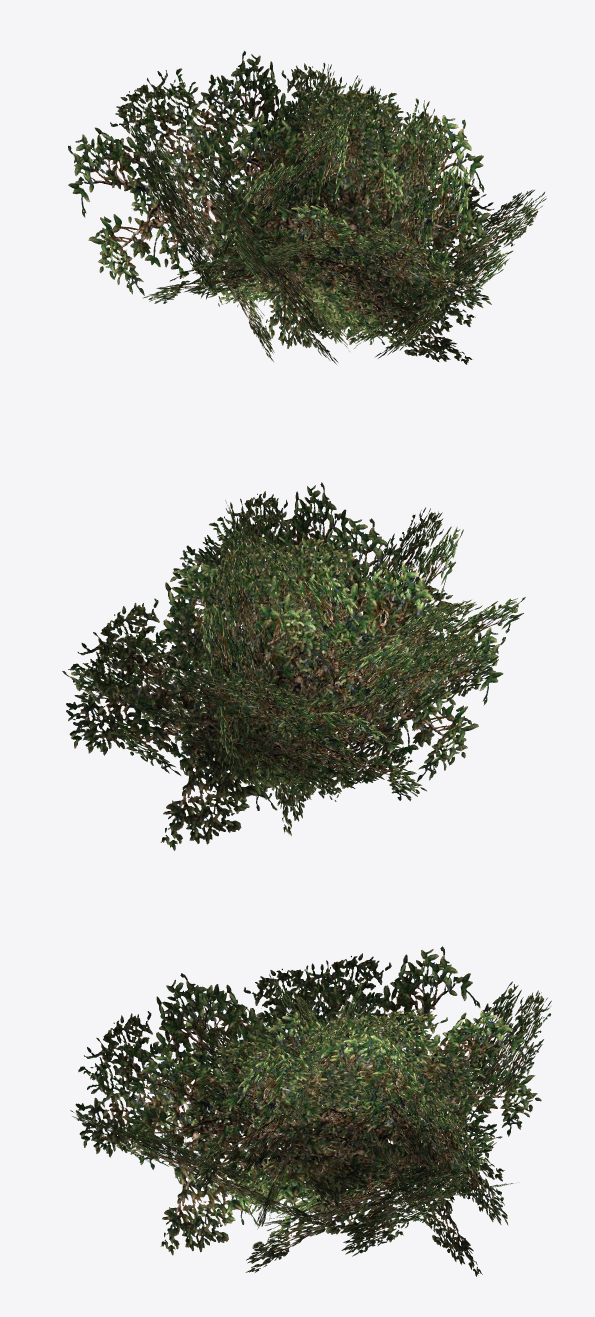
Rendered from shrb_leafbush_med_l0.fbx.
The picture shows the model from 3 angles, top to bottom: view 1: azimuth 30°, elevation 25°; view 2: azimuth 150°, elevation 25°; view 3: azimuth 270°, elevation 25°; orthographic projection. The views are drawn at different scales.
Visible parts, largest first — view 1: mesh_node; view 2: mesh_node; view 3: mesh_node.
Part boxes in pixels (left/top/right/bottom): mesh_node: left=68, top=51, right=546, bottom=364; mesh_node: left=62, top=482, right=525, bottom=850; mesh_node: left=70, top=946, right=551, bottom=1276.
Bounding box in the file's own units: 2.34 × 1.68 × 2.61.
